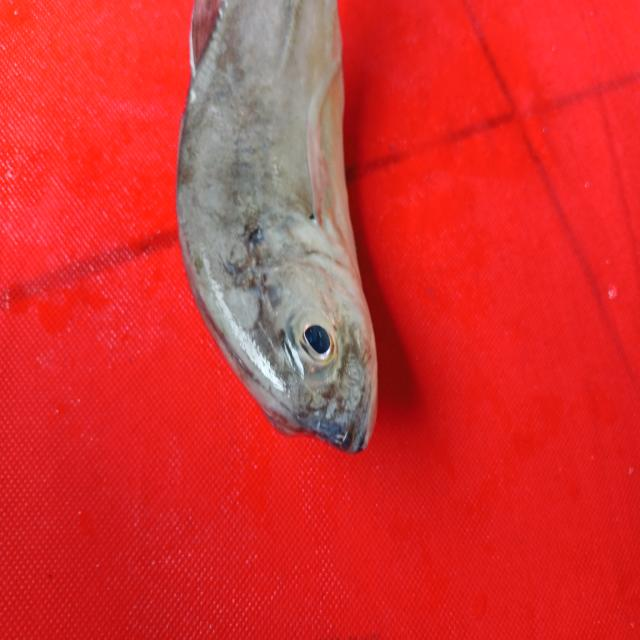ikan: (159, 14, 404, 484)
